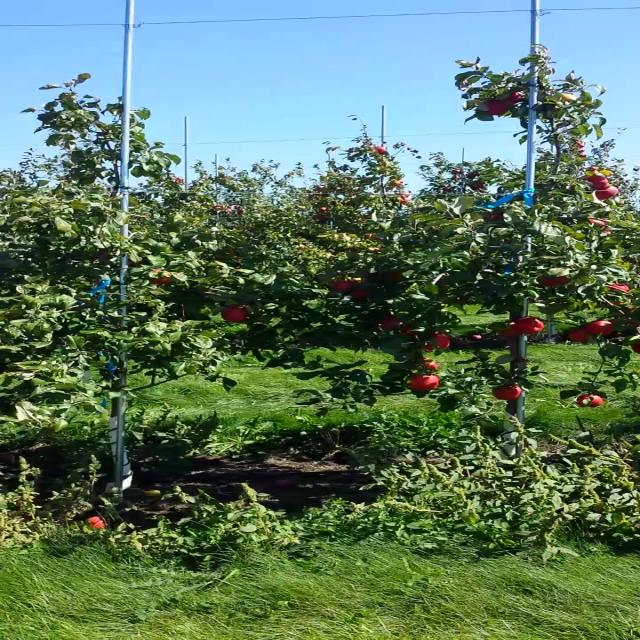apple: (537, 268, 571, 288), (409, 356, 440, 374), (420, 333, 450, 351), (222, 306, 252, 324), (562, 327, 594, 343), (388, 268, 420, 284), (148, 267, 176, 285), (372, 315, 403, 331), (516, 317, 543, 335), (332, 275, 359, 293), (603, 285, 630, 303), (403, 320, 430, 338), (581, 172, 611, 188), (491, 322, 521, 337), (412, 374, 440, 390), (485, 209, 512, 225), (494, 386, 524, 400), (484, 101, 510, 115), (596, 187, 618, 203), (350, 287, 374, 301), (586, 218, 607, 232), (590, 322, 614, 334), (503, 90, 525, 102), (578, 396, 601, 407), (556, 92, 577, 104), (629, 336, 639, 352)
